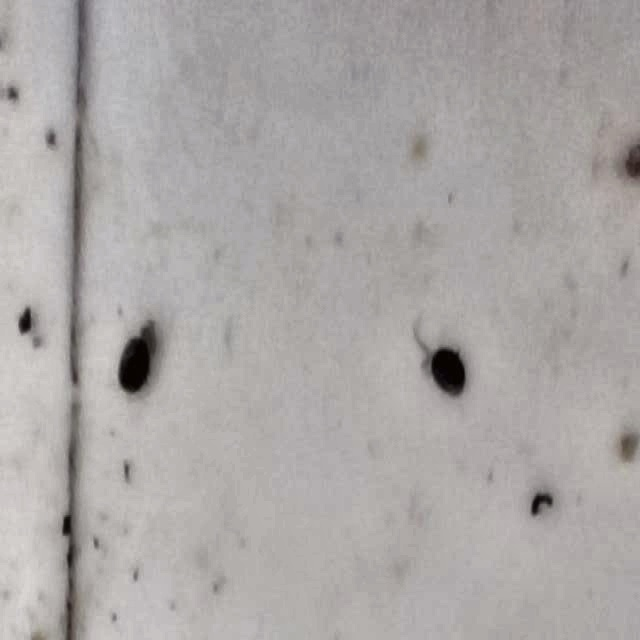varroa: (427, 346, 467, 401), (115, 337, 152, 395)
